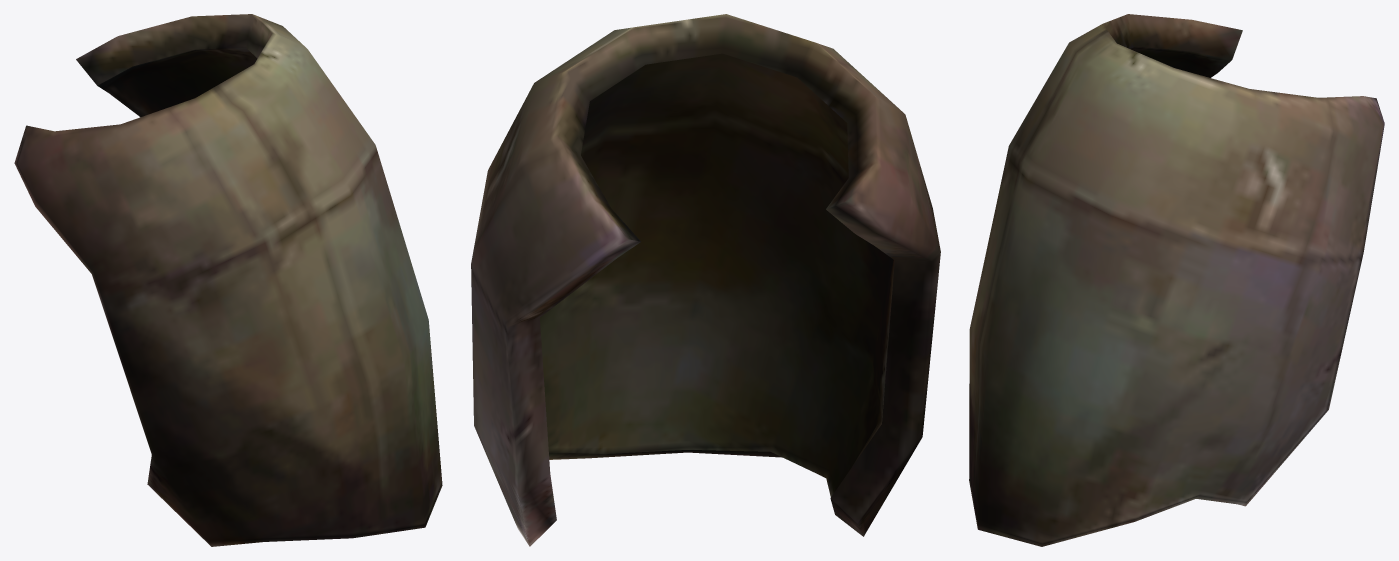
The model's file is ord_item_sav_debris_small_03.glb.
The picture shows the model from 3 angles, left to right: view 1: azimuth 30°, elevation 25°; view 2: azimuth 150°, elevation 25°; view 3: azimuth 270°, elevation 25°; orthographic projection. The views are drawn at different scales.
Visible parts, largest first — view 1: ord_item_sav_debris_small_03; view 2: ord_item_sav_debris_small_03; view 3: ord_item_sav_debris_small_03.
Part boxes in pixels (x1,y1,x2,y2): ord_item_sav_debris_small_03: (14, 14, 442, 546); ord_item_sav_debris_small_03: (471, 14, 940, 546); ord_item_sav_debris_small_03: (969, 14, 1384, 546).
Size of the model in its own units: 0.11 by 0.1294 by 0.1115.
1 material, 1 textured.
